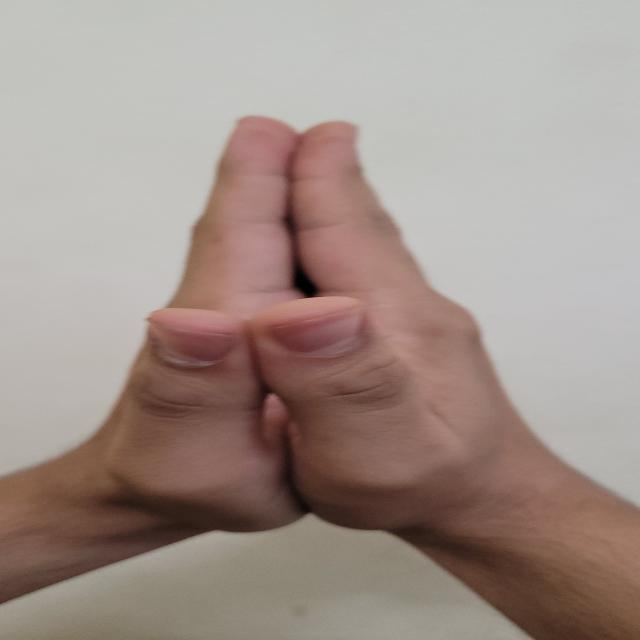Thank You: (66, 101, 582, 574)
